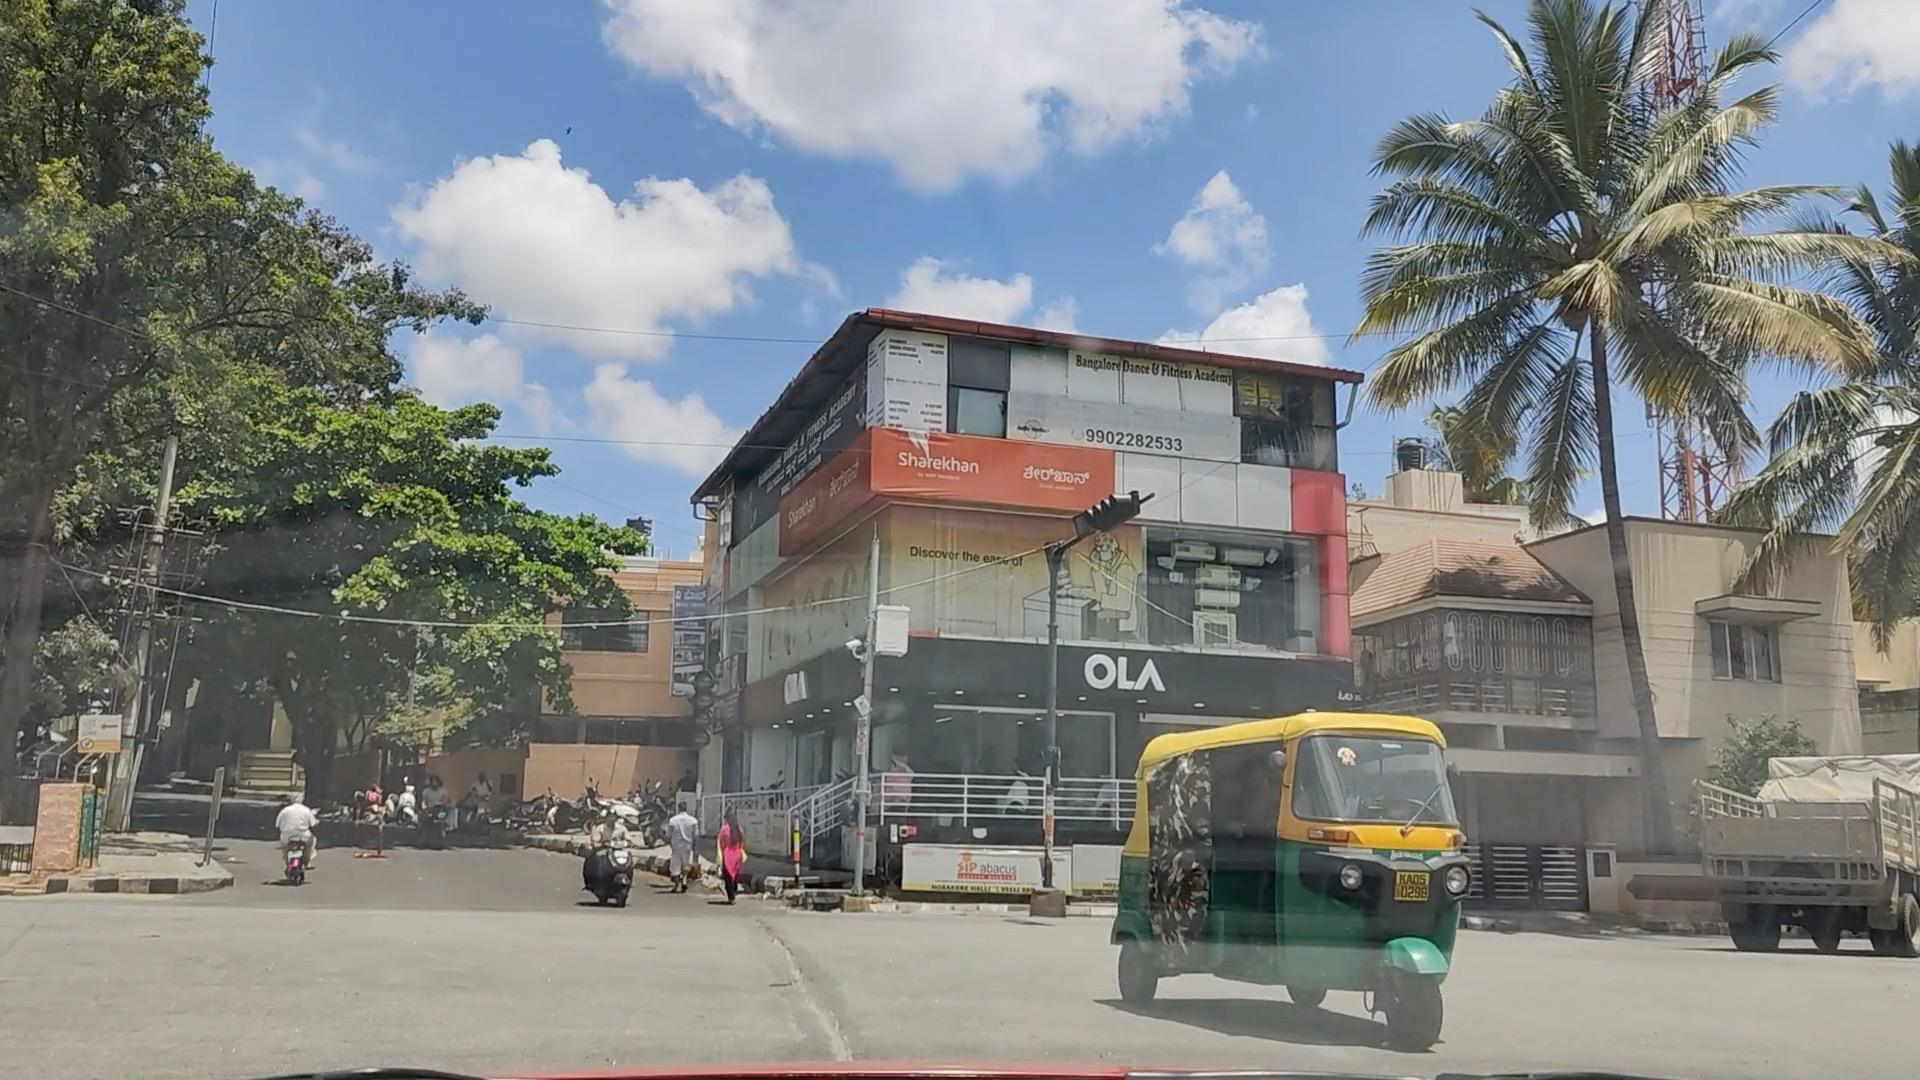RoadDamages: (727, 899, 881, 1072)
